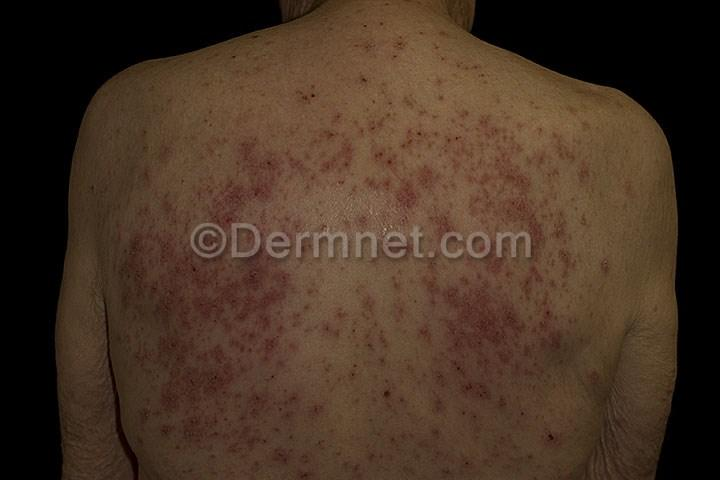Eczema: (433, 158, 545, 252), (468, 254, 555, 373), (246, 129, 364, 208), (112, 211, 205, 308), (382, 240, 461, 345), (196, 387, 288, 474), (205, 304, 297, 389), (164, 125, 253, 212), (548, 163, 615, 278), (127, 372, 201, 476), (209, 206, 284, 305), (371, 348, 458, 431), (107, 308, 201, 380), (289, 345, 372, 425), (284, 269, 369, 346), (503, 85, 581, 164), (427, 80, 500, 163), (286, 424, 384, 477), (143, 69, 221, 131), (455, 373, 524, 443), (95, 114, 160, 188), (363, 72, 429, 134), (587, 89, 634, 176), (302, 15, 364, 78), (282, 212, 352, 267), (366, 139, 427, 202), (385, 427, 459, 477), (226, 80, 302, 126), (559, 282, 621, 337), (411, 24, 469, 81), (363, 12, 420, 69), (349, 204, 427, 244), (563, 343, 615, 401), (297, 79, 353, 128), (468, 442, 534, 480), (200, 40, 248, 87), (530, 414, 570, 468), (246, 33, 288, 82), (616, 169, 653, 219), (463, 48, 504, 85), (632, 286, 665, 320)
